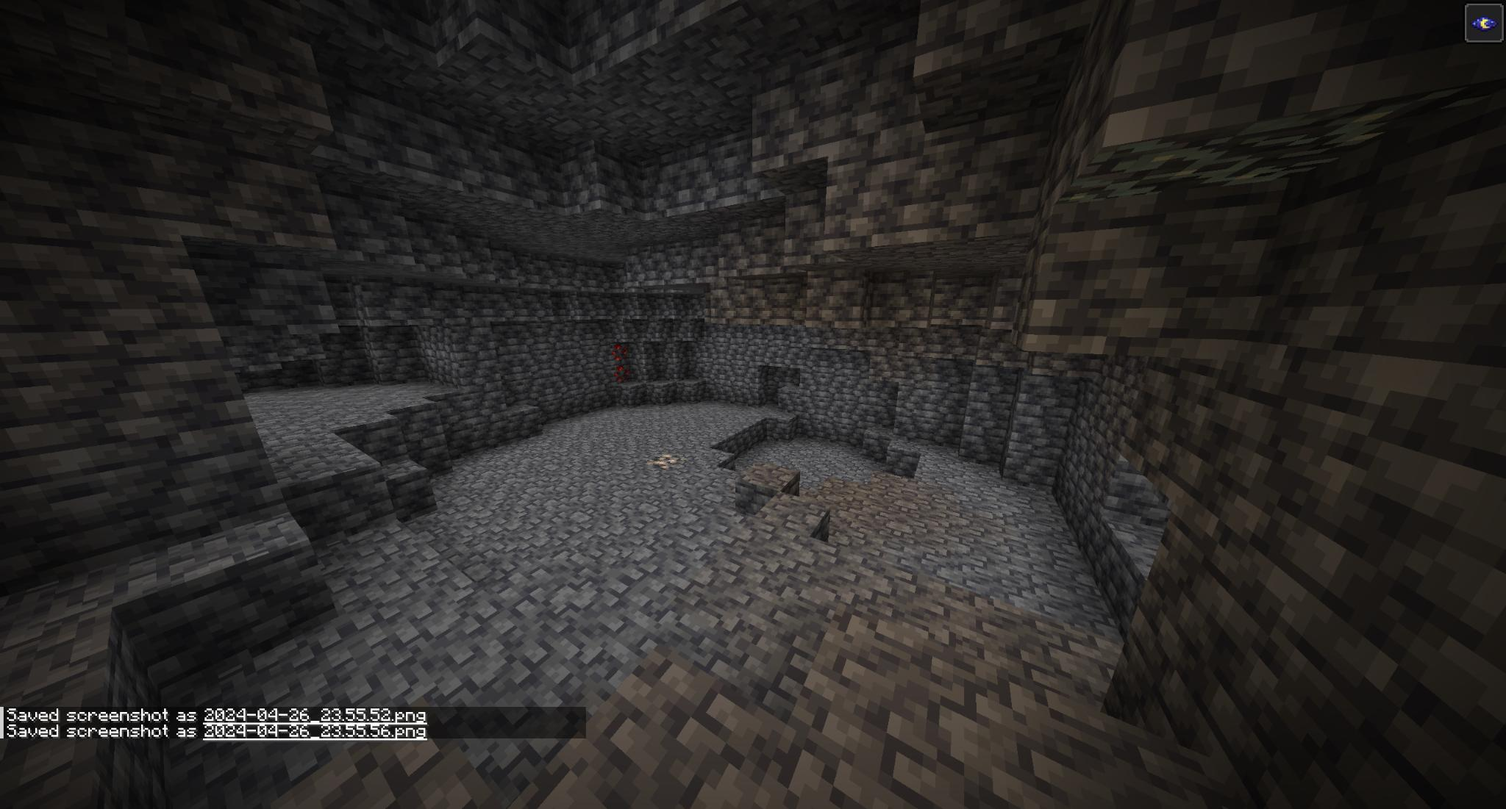iron ore: (643, 439, 682, 481)
redstone ore: (605, 337, 635, 383)
